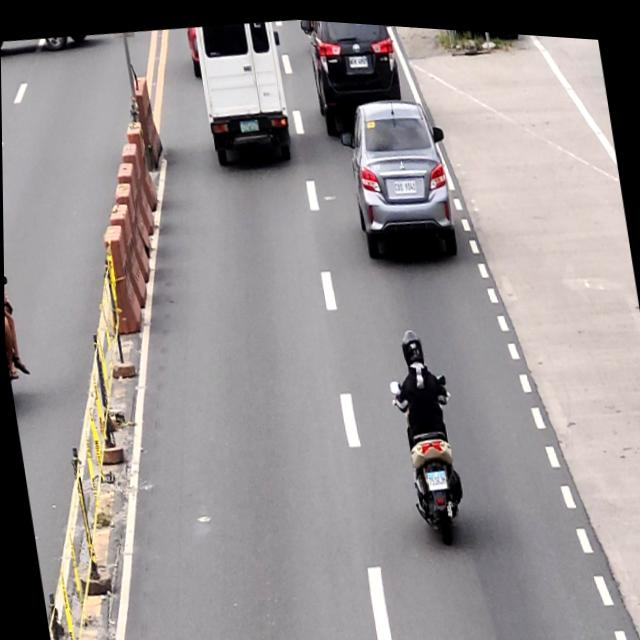Car: (335, 84, 462, 265), (194, 13, 299, 172), (299, 16, 408, 140)
License-Plate: (425, 462, 447, 486), (392, 173, 417, 192), (348, 48, 369, 66), (241, 115, 260, 130)
Motorcycle: (388, 361, 472, 545)
